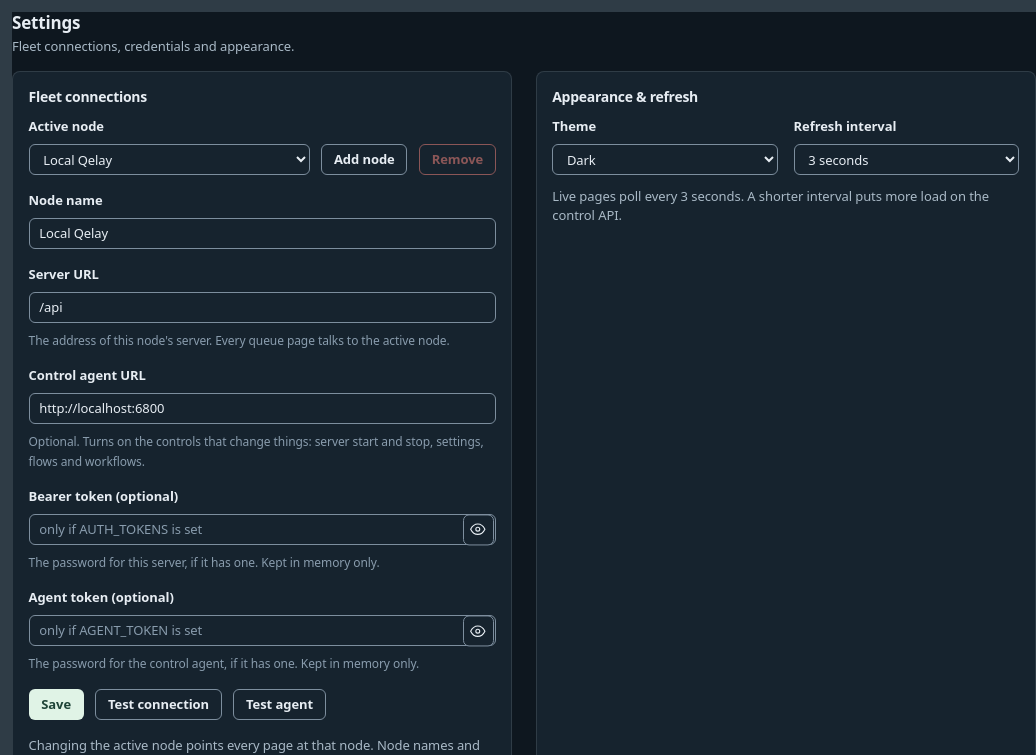
Test: Settings connection-test lifecycle › the last-started probe wins even when an older fetch resolves last
The width and height of the screenshot is (1036, 755).
Click the button "Test connection" at coordinates (159, 705), box [95,689,222,720]
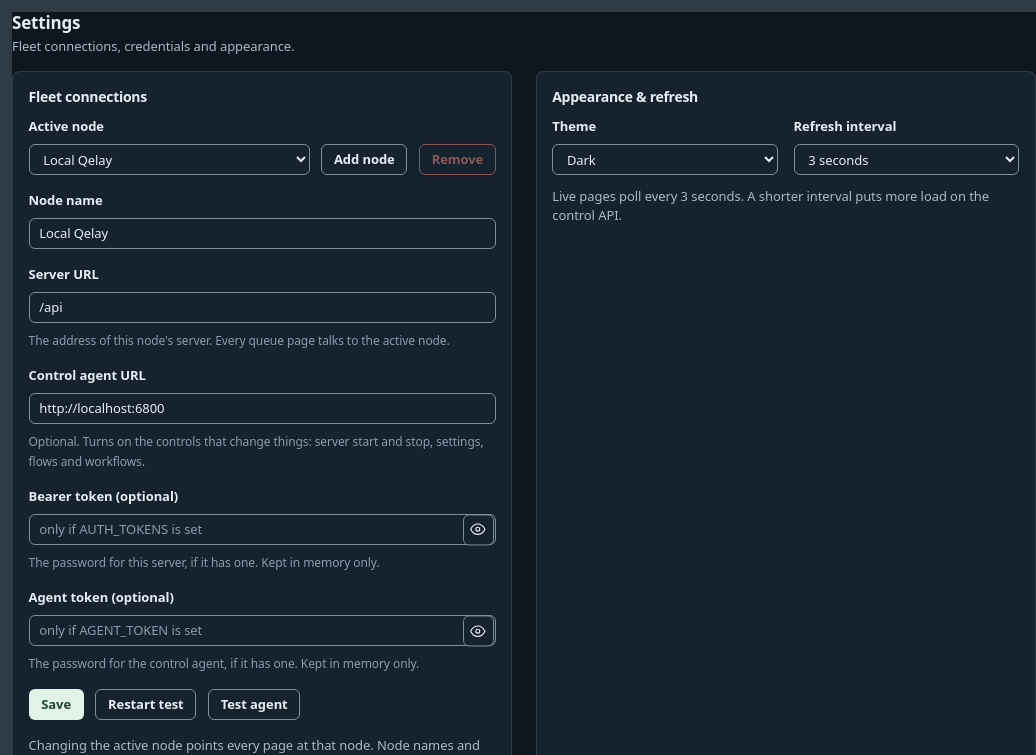
Click the button "Restart test" at coordinates (146, 705), box [95,689,196,720]
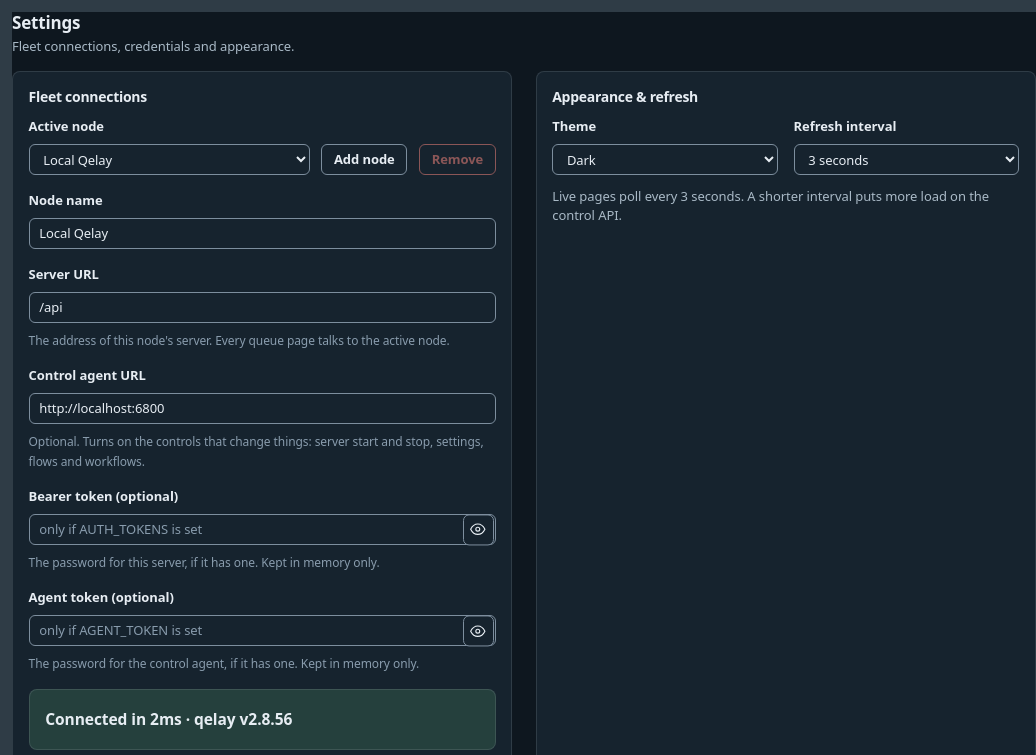
Result: the text "qelay v2.8.56" is shown at [45,708,292,730]
